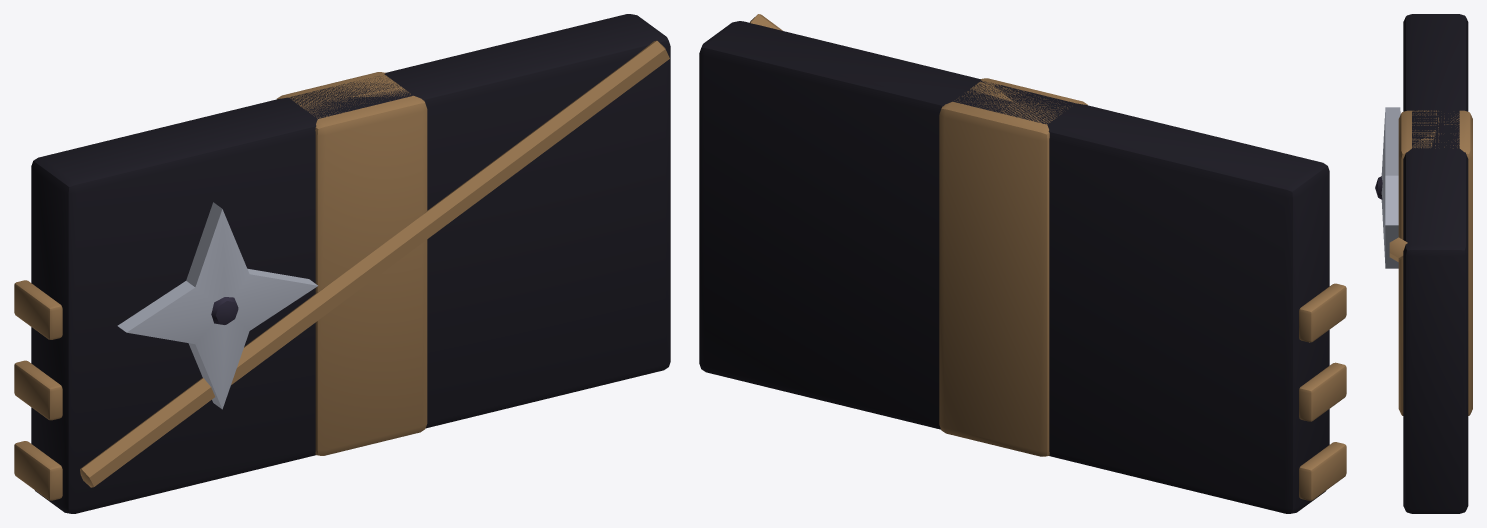
Rendered from Ninja_Plate_1.fbx.
3 views of the same model, side by side, from view 1: azimuth 30°, elevation 25°; view 2: azimuth 150°, elevation 25°; view 3: azimuth 270°, elevation 25° (orthographic). The views are drawn at different scales.
Visible parts, largest first — view 1: Ninja_Plate_1; view 2: Ninja_Plate_1; view 3: Ninja_Plate_1.
Part boxes in pixels (x1=…): Ninja_Plate_1: x1=14, y1=14, x2=670, y2=513; Ninja_Plate_1: x1=699, y1=14, x2=1346, y2=513; Ninja_Plate_1: x1=1375, y1=14, x2=1472, y2=513.
Size of the model in its own units: 0.195 by 0.1012 by 0.033.
